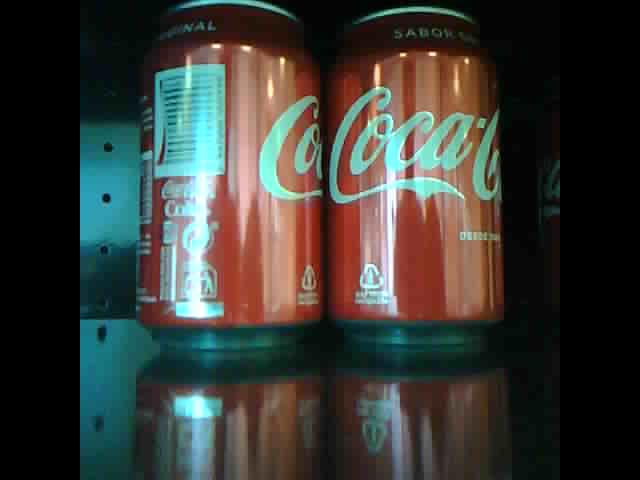coca cola: (136, 5, 324, 357), (326, 9, 505, 346)
